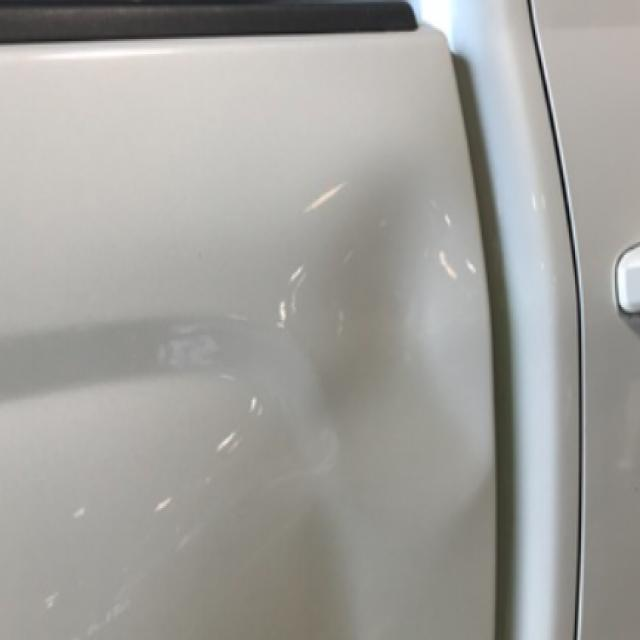dents: (276, 177, 476, 560)
